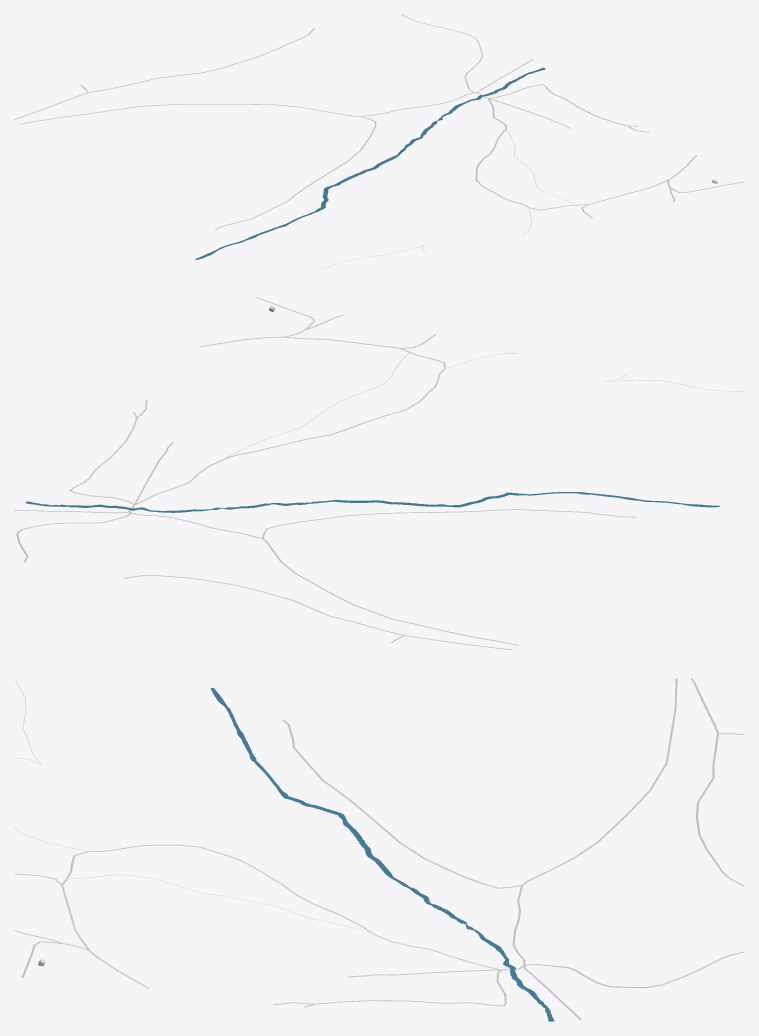
The model's file is objekty.glb.
3 renders of one model, top to bottom at view 1: azimuth 30°, elevation 25°; view 2: azimuth 150°, elevation 25°; view 3: azimuth 270°, elevation 25°, orthographic. The views are drawn at different scales.
Parts seen in each view (by area): view 1: Cesty_05_03, Voda_05_03; view 2: Cesty_05_03, Voda_05_03; view 3: Cesty_05_03, Voda_05_03.
Boxes of the visible parts, x1,y1,x2,y2 form: Cesty_05_03: (14,14,744,268); Voda_05_03: (195,67,545,259); Cesty_05_03: (14,297,744,649); Voda_05_03: (25,492,719,512); Cesty_05_03: (14,678,744,1019); Voda_05_03: (210,688,554,1021).
Size of the model in its own units: 1004 by 104 by 1004.
